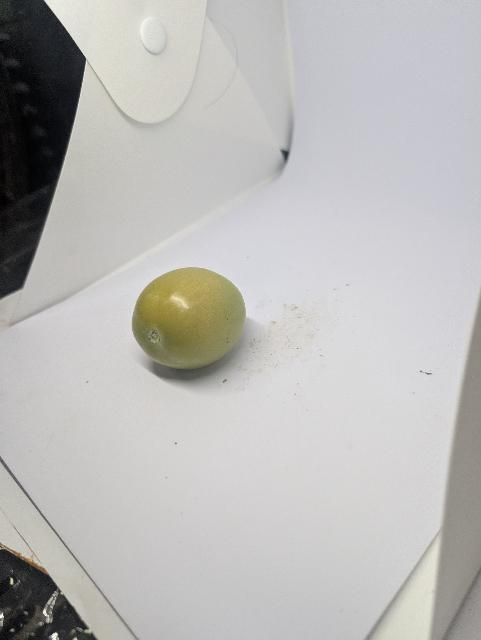breaker: (128, 263, 254, 373)
